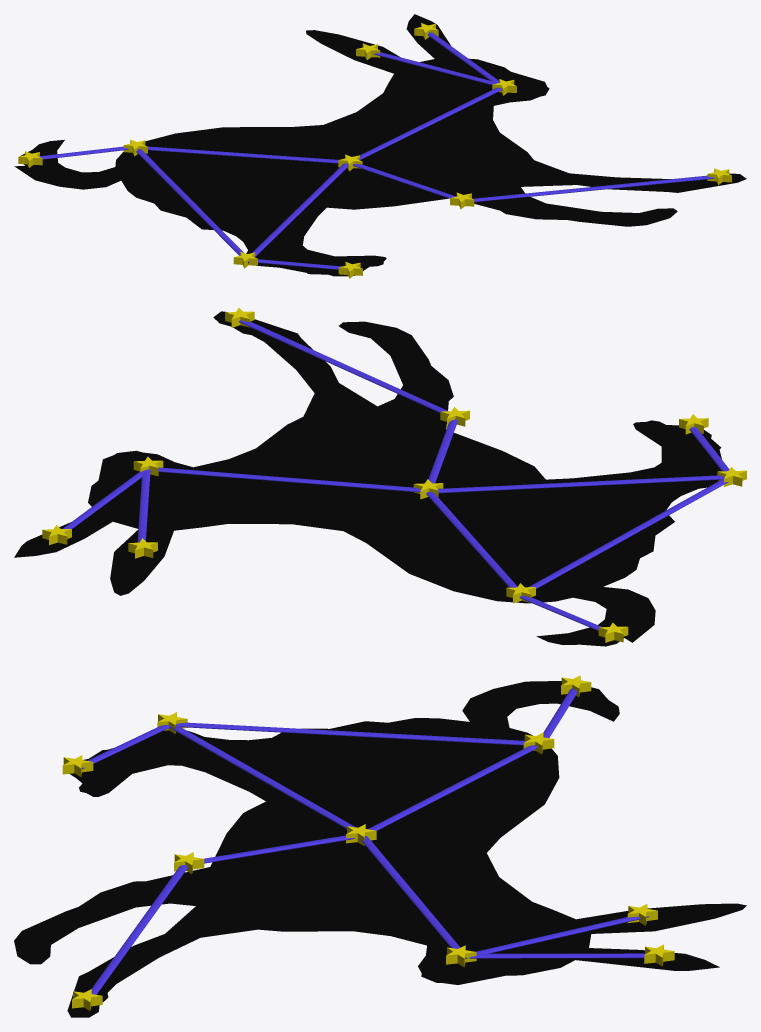
The model's file is Usagi-za.glb.
3 renders of one model, top to bottom at view 1: azimuth 30°, elevation 25°; view 2: azimuth 150°, elevation 25°; view 3: azimuth 270°, elevation 25°, orthographic. The views are drawn at different scales.
Visible parts, largest first — view 1: 円.001, 円柱.009, 円柱.006, 円柱.004, 円柱.002, 円柱.007, 円柱.001, 円柱.008, 円柱.003; view 2: 円.001, 円柱.007, 円柱.002, 円柱.006, 円柱.009, 円柱.004, 円柱.003, 円柱.001, 円柱.008; view 3: 円.001, 円柱.006, 円柱.007, 円柱.009, 円柱.004, 円柱.002, 円柱.003, 円柱.001, 円柱.008.
Part boxes in pixels (bbox=[...]): 円.001: bbox=[14, 14, 746, 276]; 円柱.009: bbox=[473, 175, 714, 202]; 円柱.006: bbox=[136, 149, 243, 255]; 円柱.004: bbox=[148, 146, 338, 163]; 円柱.002: bbox=[359, 87, 501, 160]; 円柱.007: bbox=[248, 163, 348, 263]; 円柱.001: bbox=[374, 52, 497, 84]; 円柱.008: bbox=[353, 164, 455, 198]; 円柱.003: bbox=[427, 32, 499, 82]; 円.001: bbox=[14, 311, 721, 646]; 円柱.007: bbox=[437, 475, 724, 493]; 円柱.002: bbox=[150, 467, 420, 492]; 円柱.006: bbox=[529, 478, 727, 588]; 円柱.009: bbox=[239, 320, 448, 412]; 円柱.004: bbox=[426, 491, 517, 587]; 円柱.003: bbox=[62, 469, 150, 528]; 円柱.001: bbox=[137, 469, 150, 542]; 円柱.008: bbox=[428, 419, 457, 483]; 円.001: bbox=[14, 681, 746, 1017]; 円柱.006: bbox=[176, 722, 526, 745]; 円柱.007: bbox=[169, 725, 355, 828]; 円柱.009: bbox=[91, 865, 187, 994]; 円柱.004: bbox=[368, 745, 537, 830]; 円柱.002: bbox=[361, 836, 460, 948]; 円柱.003: bbox=[469, 953, 646, 958]; 円柱.001: bbox=[465, 916, 649, 958]; 円柱.008: bbox=[204, 835, 354, 863].
Bounding box in the file's own units: 71.7 × 0.8959 × 65.87.
